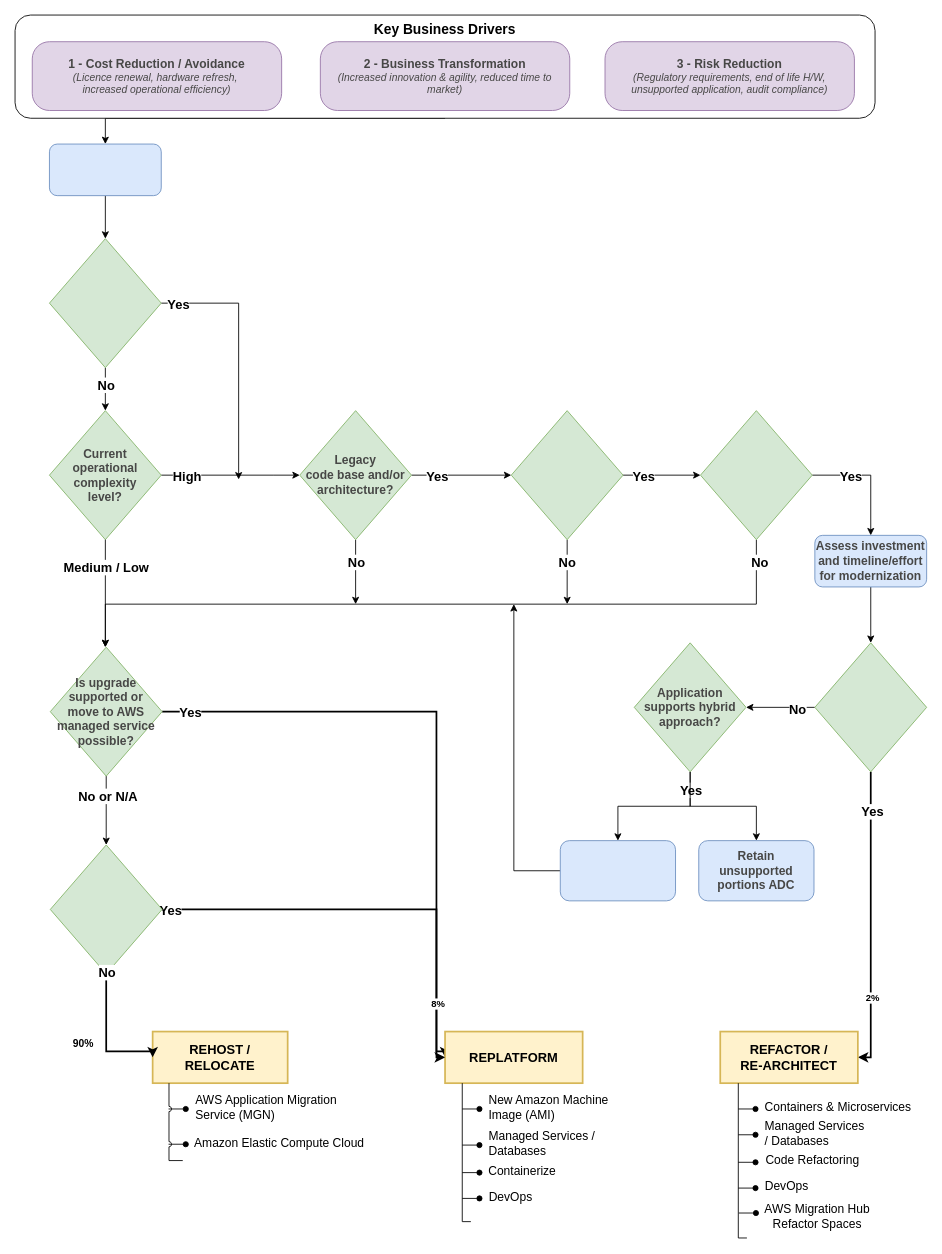
The diagram is 942 pixels wide and 1254 high, and some of its shapes have lost their labels. Each missing label, with the centre of its shape:
Can complete prior to migration deadline?: the point at 756,475
In-Scope Applications: the point at 105,169
Investment available to Refactor / Re-architect?: the point at 566,475
Migrate supported portions to AWS: the point at 617,870
Modernize?: the point at 870,707
Replatform?: the point at 105,909
Revenue generating and/or strategic application?: the point at 105,303
